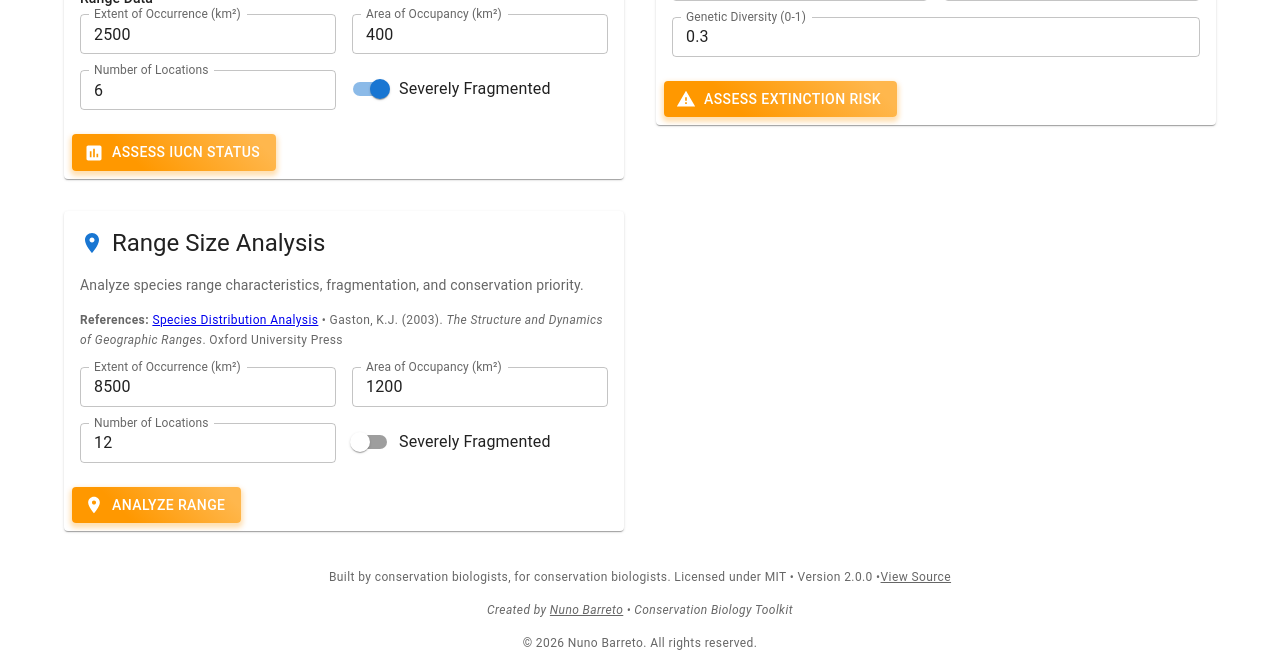
Scenario: SpeciesAssessment Component › displays range analysis results
This screenshot has width=1280, height=670.
(page scrolled)
Click the button "Analyze Range" at (157, 505), box [72, 487, 241, 523]
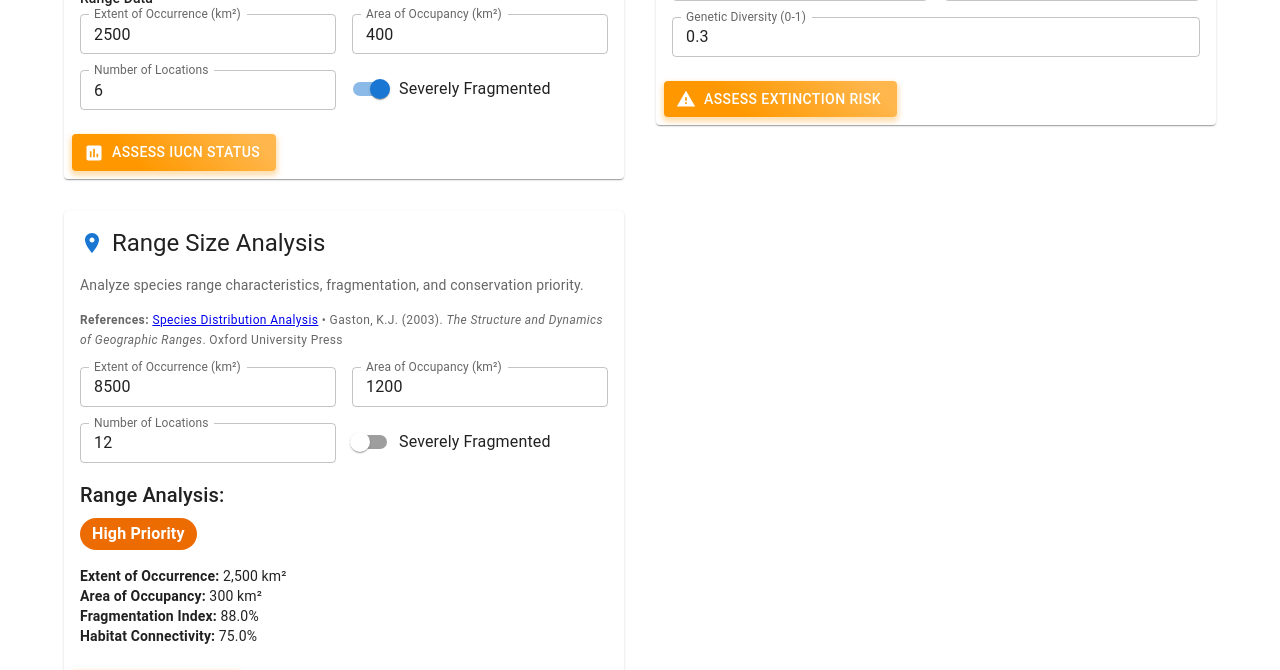
Result: the text "High Priority" is shown at [92, 524, 185, 543]
Result: the text "Extent of Occurrence:" is shown at [80, 568, 219, 584]
Result: the text "2,500 km²" is shown at [80, 568, 287, 584]
